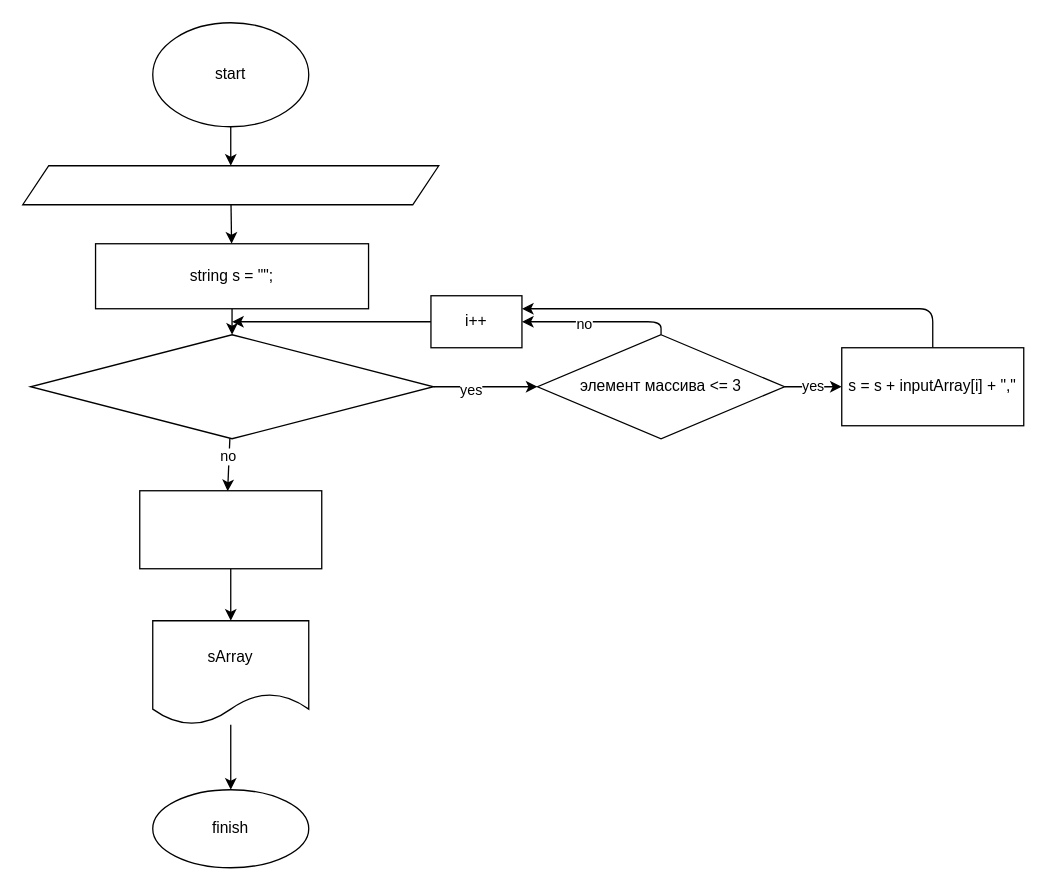
The diagram is 1047 pixels wide and 890 high, and some of its shapes have lost their labels. The box of each missing label's shape, as (x1, y1, x2, y2) in pixels:
inputArray: (21, 164, 439, 205)
методом Split делим по делителю "," и получаем массив sArray: (138, 489, 322, 569)
проходим по всем элементам массива i = 0; i < inputArray.length: (29, 333, 434, 439)
